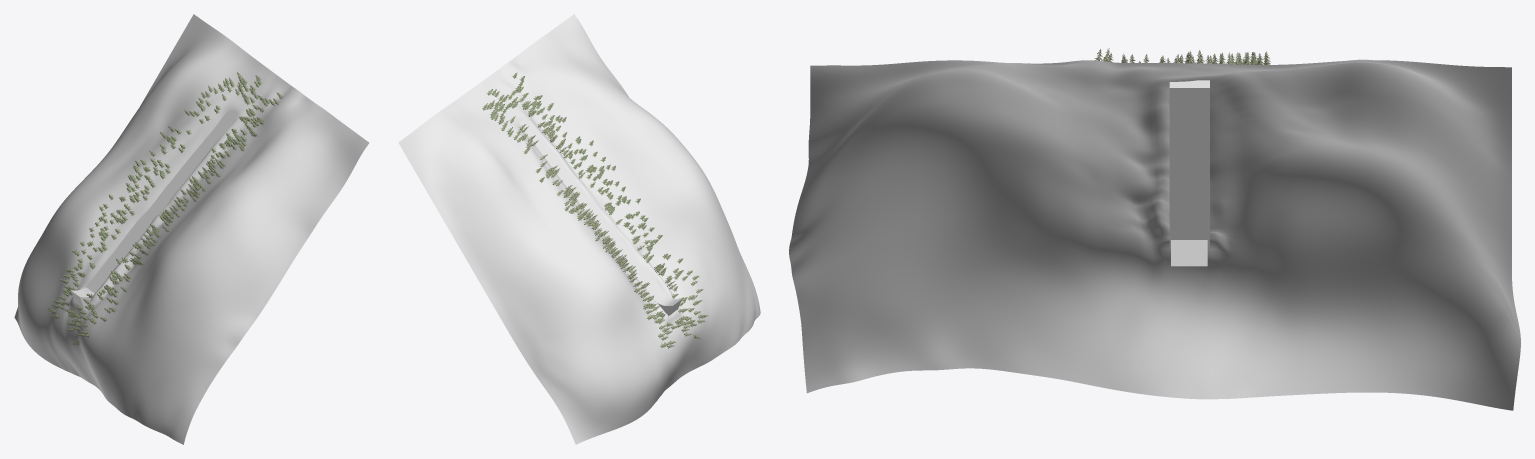
Rendered from terrain.fbx.
3 views of the same model, side by side, from view 1: azimuth 30°, elevation 25°; view 2: azimuth 150°, elevation 25°; view 3: azimuth 270°, elevation 25° (orthographic). The views are drawn at different scales.
Parts seen in each view (by area): view 1: Landscape.002, road; view 2: Landscape.002, road; view 3: Landscape.002, road, jumpramp.
Part boxes in pixels (x1,y1,x2,y2): Landscape.002: [14, 14, 369, 444]; road: [85, 109, 237, 293]; Landscape.002: [398, 14, 760, 444]; road: [519, 117, 665, 304]; Landscape.002: [789, 59, 1520, 410]; road: [1169, 80, 1209, 248]; jumpramp: [1171, 240, 1207, 266].
Size of what is drawn, in the model's own units: 11515 by 13602 by 17197.
